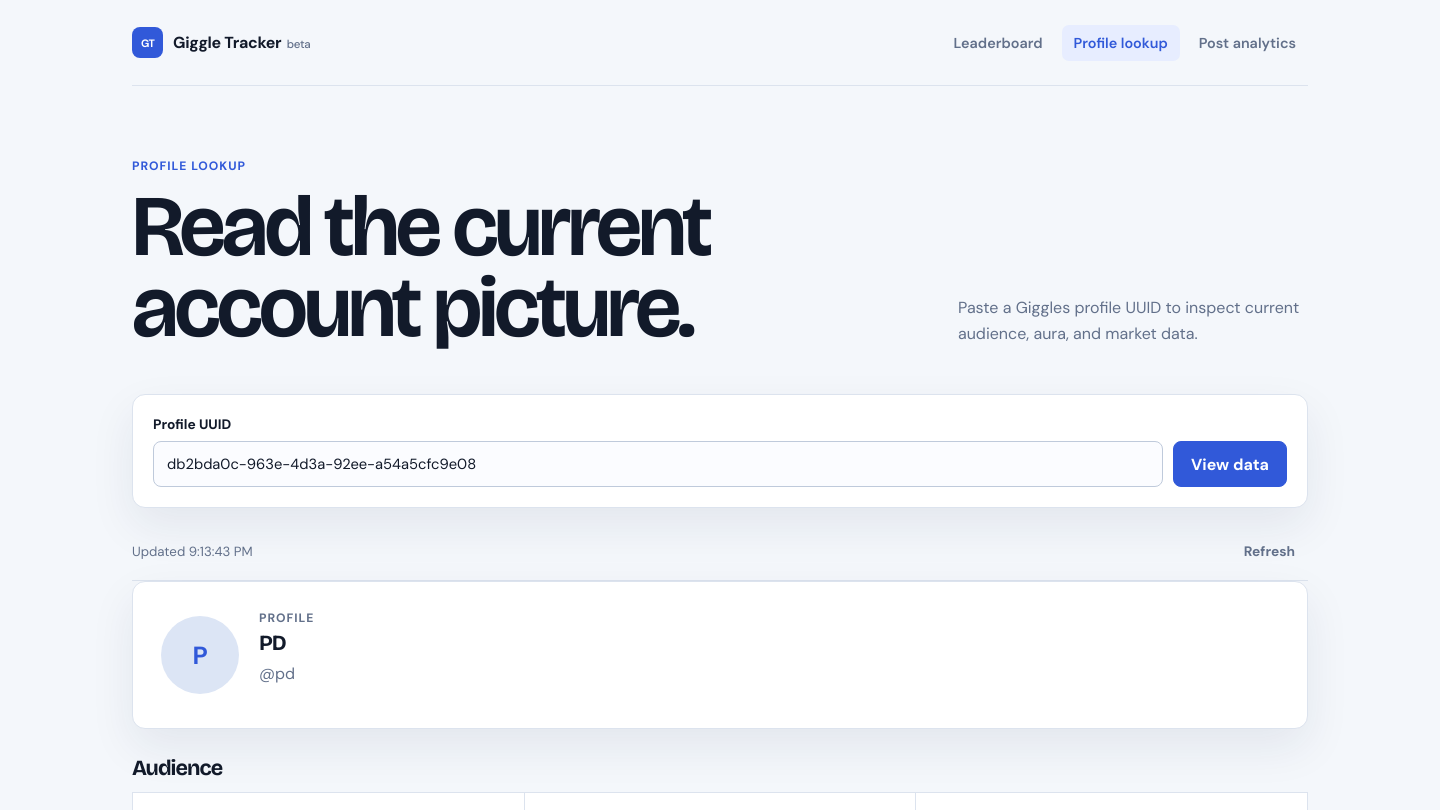
Test: tracker routes › keeps current data visible when a refresh fails
Expected: the heading "PD" is shown, x1=259 y1=630 x2=286 y2=656
Step 1. Click the button "Refresh" → (1269,551), box x1=1231 y1=533 x2=1308 y2=569
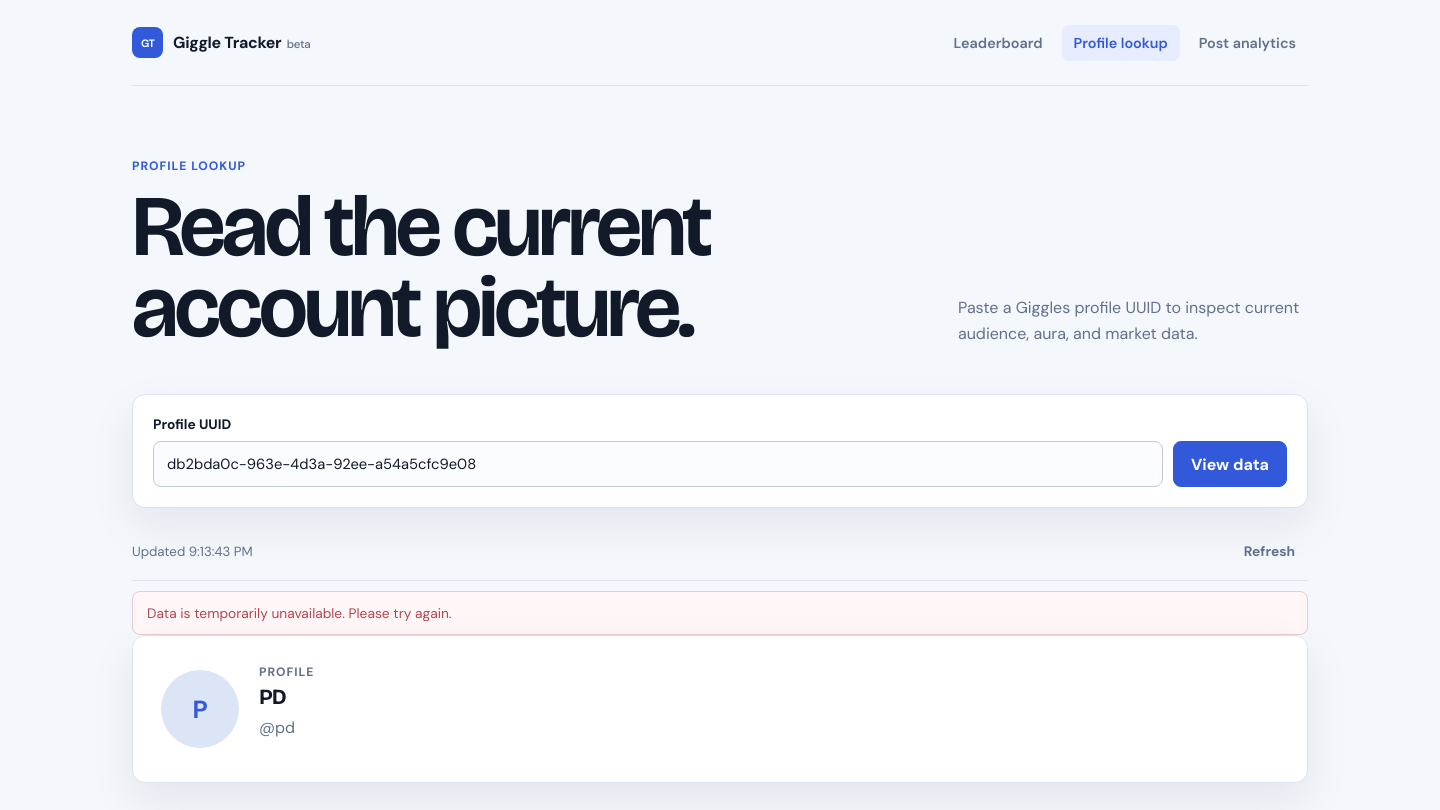
Expected: the heading "PD" is shown, x1=259 y1=684 x2=286 y2=710
Expected: the message "Data is temporarily unavailable. Please try again." is shown, x1=132 y1=591 x2=1308 y2=635
